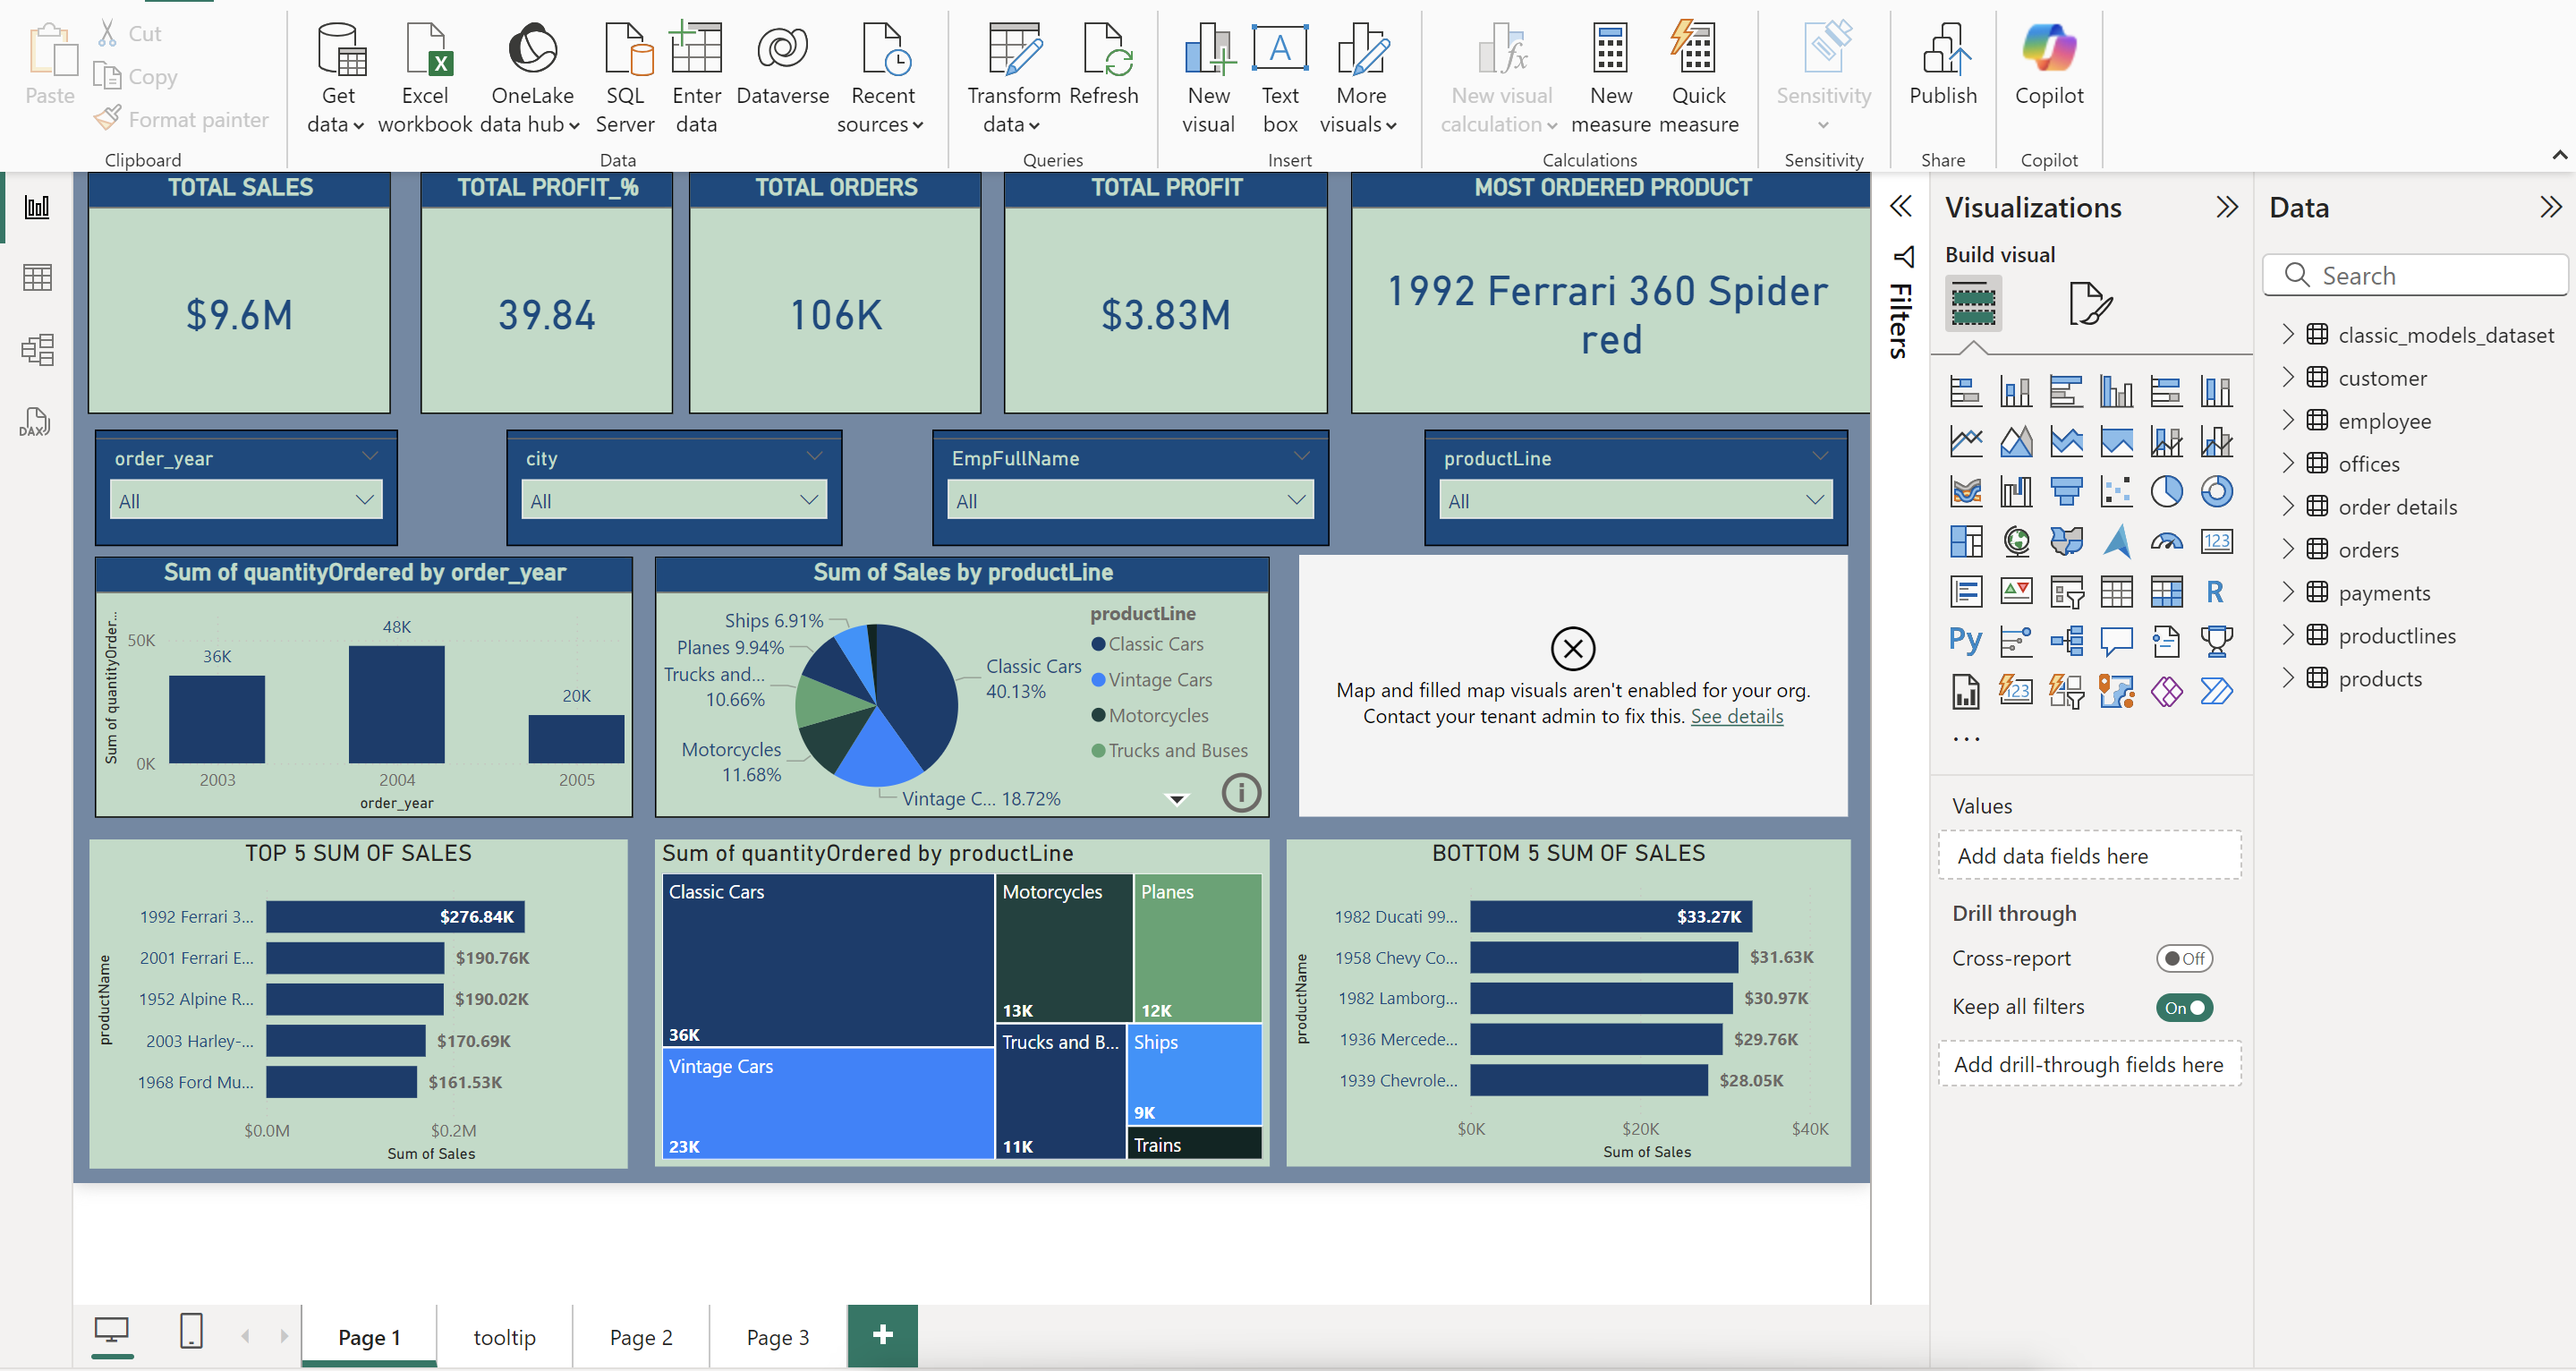

What the dashboard file says about the page in this screenshot:
{"tool":"powerbi","page":{"name":"Page 1","canvas":[1280,720],"ordinal":0},"visuals":[{"type":"card","title":"TOTAL PROFIT","fields":{"Values":["order details.total_profit"]},"box":[663.3,0,231.1,172.6],"z":0},{"type":"card","title":"MOST ORDERED PRODUCT","fields":{"Values":["order details.Most_Ordered"]},"box":[910.9,0,372.1,172.6],"z":1000},{"type":"barChart","title":"TOP 5 SUM OF SALES","fields":{"Category":["products.productName"],"Y":["order details.Sales"]},"box":[11,475.7,383.4,234.7],"z":2000},{"type":"pieChart","fields":{"Category":["products.productLine"],"Y":["order details.Sales"]},"box":[414.7,273.8,438.1,186.2],"z":3000},{"type":"card","title":"TOTAL ORDERS","fields":{"Values":["order details.quantityOrdered"]},"box":[438.2,0,208.6,172.6],"z":4000},{"type":"treemap","fields":{"Group":["productlines.productLine"],"Values":["order details.quantityOrdered"]},"box":[414.7,475.7,438.1,233.2],"z":5000},{"type":"clusteredColumnChart","fields":{"Category":["orders.order_year"],"Y":["order details.quantityOrdered"]},"box":[15.6,273.8,383.4,186.2],"z":6000},{"type":"card","title":"TOTAL PROFIT_%","fields":{"Values":["classic_models_dataset.PROFIT_MARGIN_%"]},"box":[247.6,0,180.1,172.6],"z":7000},{"type":"card","title":"TOTAL SALES","fields":{"Values":["order details.Sales"]},"box":[10.5,0,216.1,172.6],"z":8000},{"type":"slicer","fields":{"Values":["orders.order_year"]},"box":[15.6,183.1,215.9,82.9],"z":9000},{"type":"slicer","fields":{"Values":["offices.city"]},"box":[308.3,183.1,239.4,82.9],"z":10000},{"type":"slicer","fields":{"Values":["employee.EmpFullName"]},"box":[611.8,183.1,283.2,82.9],"z":11000},{"type":"slicer","fields":{"Values":["productlines.productLine"]},"box":[962.3,183.1,302,82.9],"z":12000},{"type":"barChart","title":"BOTTOM 5 SUM OF SALES","fields":{"Category":["products.productName"],"Y":["order details.Sales"]},"box":[863.8,475.7,402.2,233.2],"z":13000},{"type":"actionButton","box":[813.3,422.9,101,38.1],"z":14000},{"type":"map","fields":{"Category":["customer.city"]},"box":[873.1,273.4,391,186.3],"z":15000}]}

Visuals, with their boxes on the page's 1280x720 design canvas (x1, y1, x2, y2). These are canvas units, not pixel positions in the 2576x1371 screenshot, which may show the page scaled, cropped or inside an application window:
"TOTAL PROFIT" card: locate(663, 0, 894, 173)
"MOST ORDERED PRODUCT" card: locate(911, 0, 1283, 173)
"TOP 5 SUM OF SALES" barChart: locate(11, 476, 394, 710)
pieChart - products.productLine x order details.Sales: locate(415, 274, 853, 460)
"TOTAL ORDERS" card: locate(438, 0, 647, 173)
treemap - productlines.productLine x order details.quantityOrdered: locate(415, 476, 853, 709)
clusteredColumnChart - orders.order_year x order details.quantityOrdered: locate(16, 274, 399, 460)
"TOTAL PROFIT_%" card: locate(248, 0, 428, 173)
"TOTAL SALES" card: locate(10, 0, 227, 173)
slicer - orders.order_year: locate(16, 183, 232, 266)
slicer - offices.city: locate(308, 183, 548, 266)
slicer - employee.EmpFullName: locate(612, 183, 895, 266)
slicer - productlines.productLine: locate(962, 183, 1264, 266)
"BOTTOM 5 SUM OF SALES" barChart: locate(864, 476, 1266, 709)
actionButton: locate(813, 423, 914, 461)
map - customer.city: locate(873, 273, 1264, 460)
